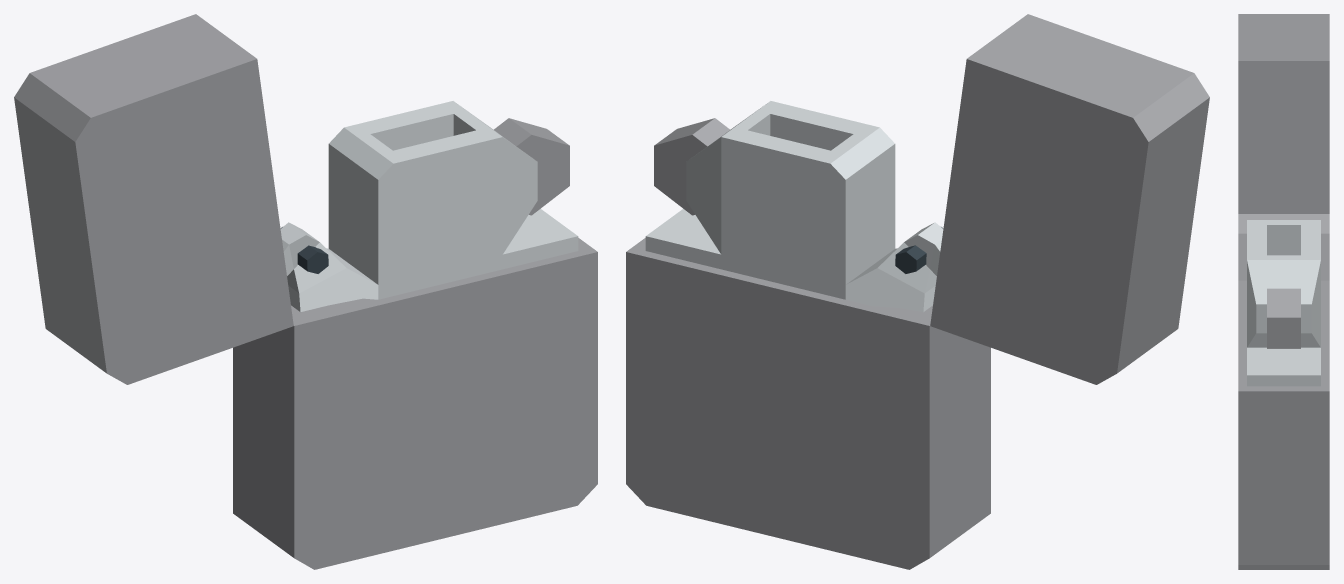
The model's file is Zippo_Open.fbx.
The picture shows the model from 3 angles, left to right: view 1: azimuth 30°, elevation 25°; view 2: azimuth 150°, elevation 25°; view 3: azimuth 270°, elevation 25°; orthographic projection. The views are drawn at different scales.
Parts seen in each view (by area): view 1: Zippo [Open]; view 2: Zippo [Open]; view 3: Zippo [Open].
Boxes of the visible parts, x1,y1,x2,y2 form: Zippo [Open]: (14,14,597,569); Zippo [Open]: (626,14,1209,569); Zippo [Open]: (1238,14,1329,569).
Size of the model in its own units: 6.25 by 6 by 1.27.
